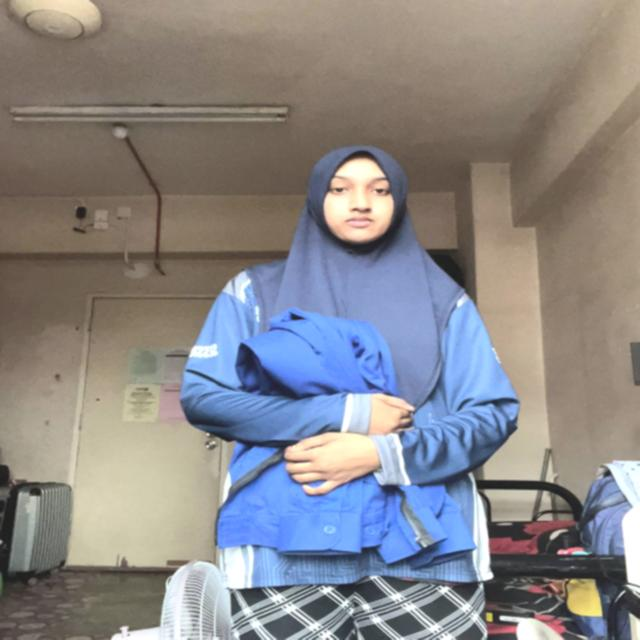person_without_labcoat: (182, 146, 519, 640)
